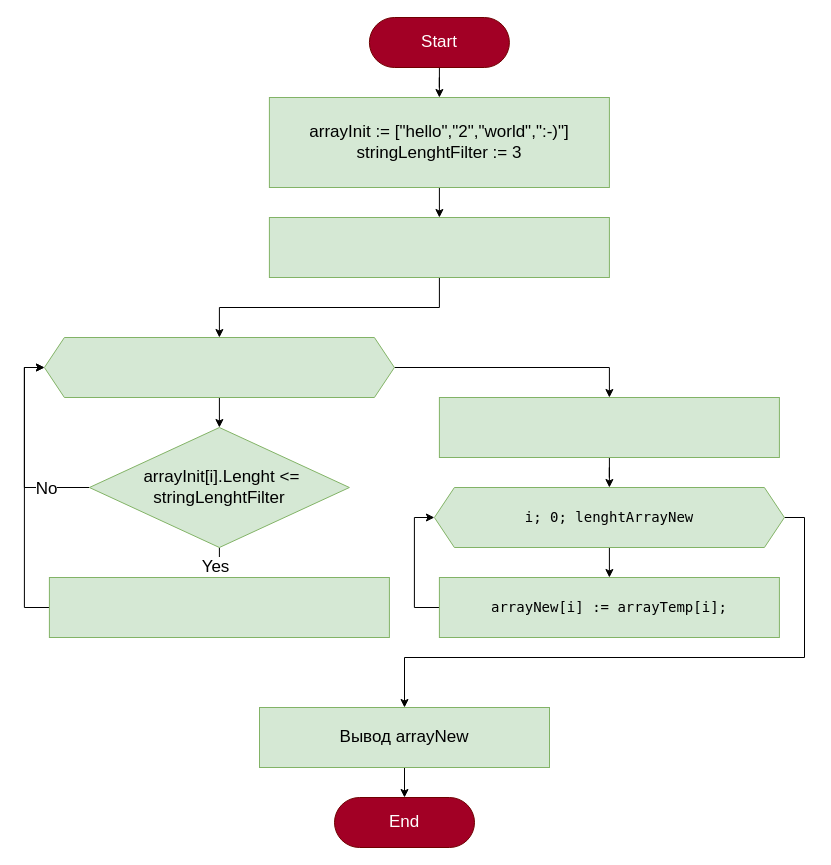
This 831x865 diagram has some shape labels left out. Each missing label, with the box of its shape:
arrayNew := new string[lenghtArrayNew];: (438, 396, 779, 458)
arrayTemp := new string[arrayInit.Length]; lenghtArrayNew := 0: (268, 216, 609, 278)
arrayTemp[lenghtArrayNew] := arrInit[i]; lenghtArrayNew++;: (48, 576, 389, 638)
i; 0; arrayInit.Lenght: (43, 336, 394, 398)
